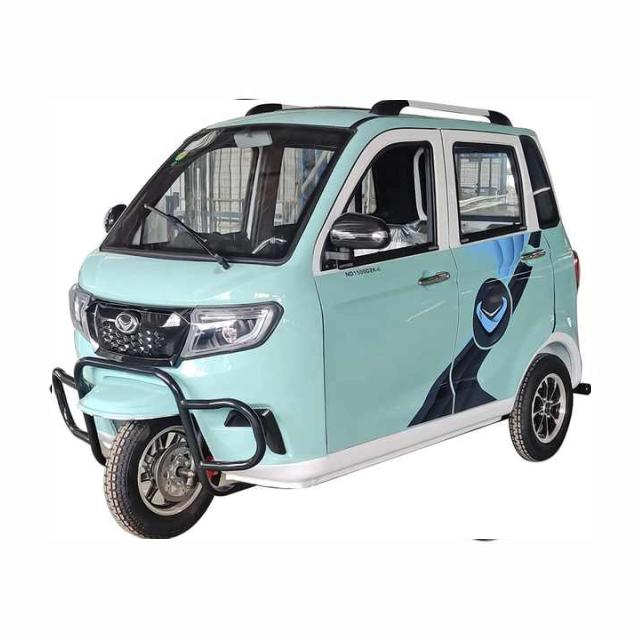autorickshaw: (52, 100, 590, 539)
